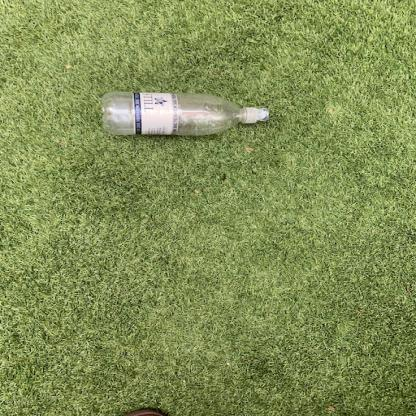trash: (98, 91, 272, 137)
